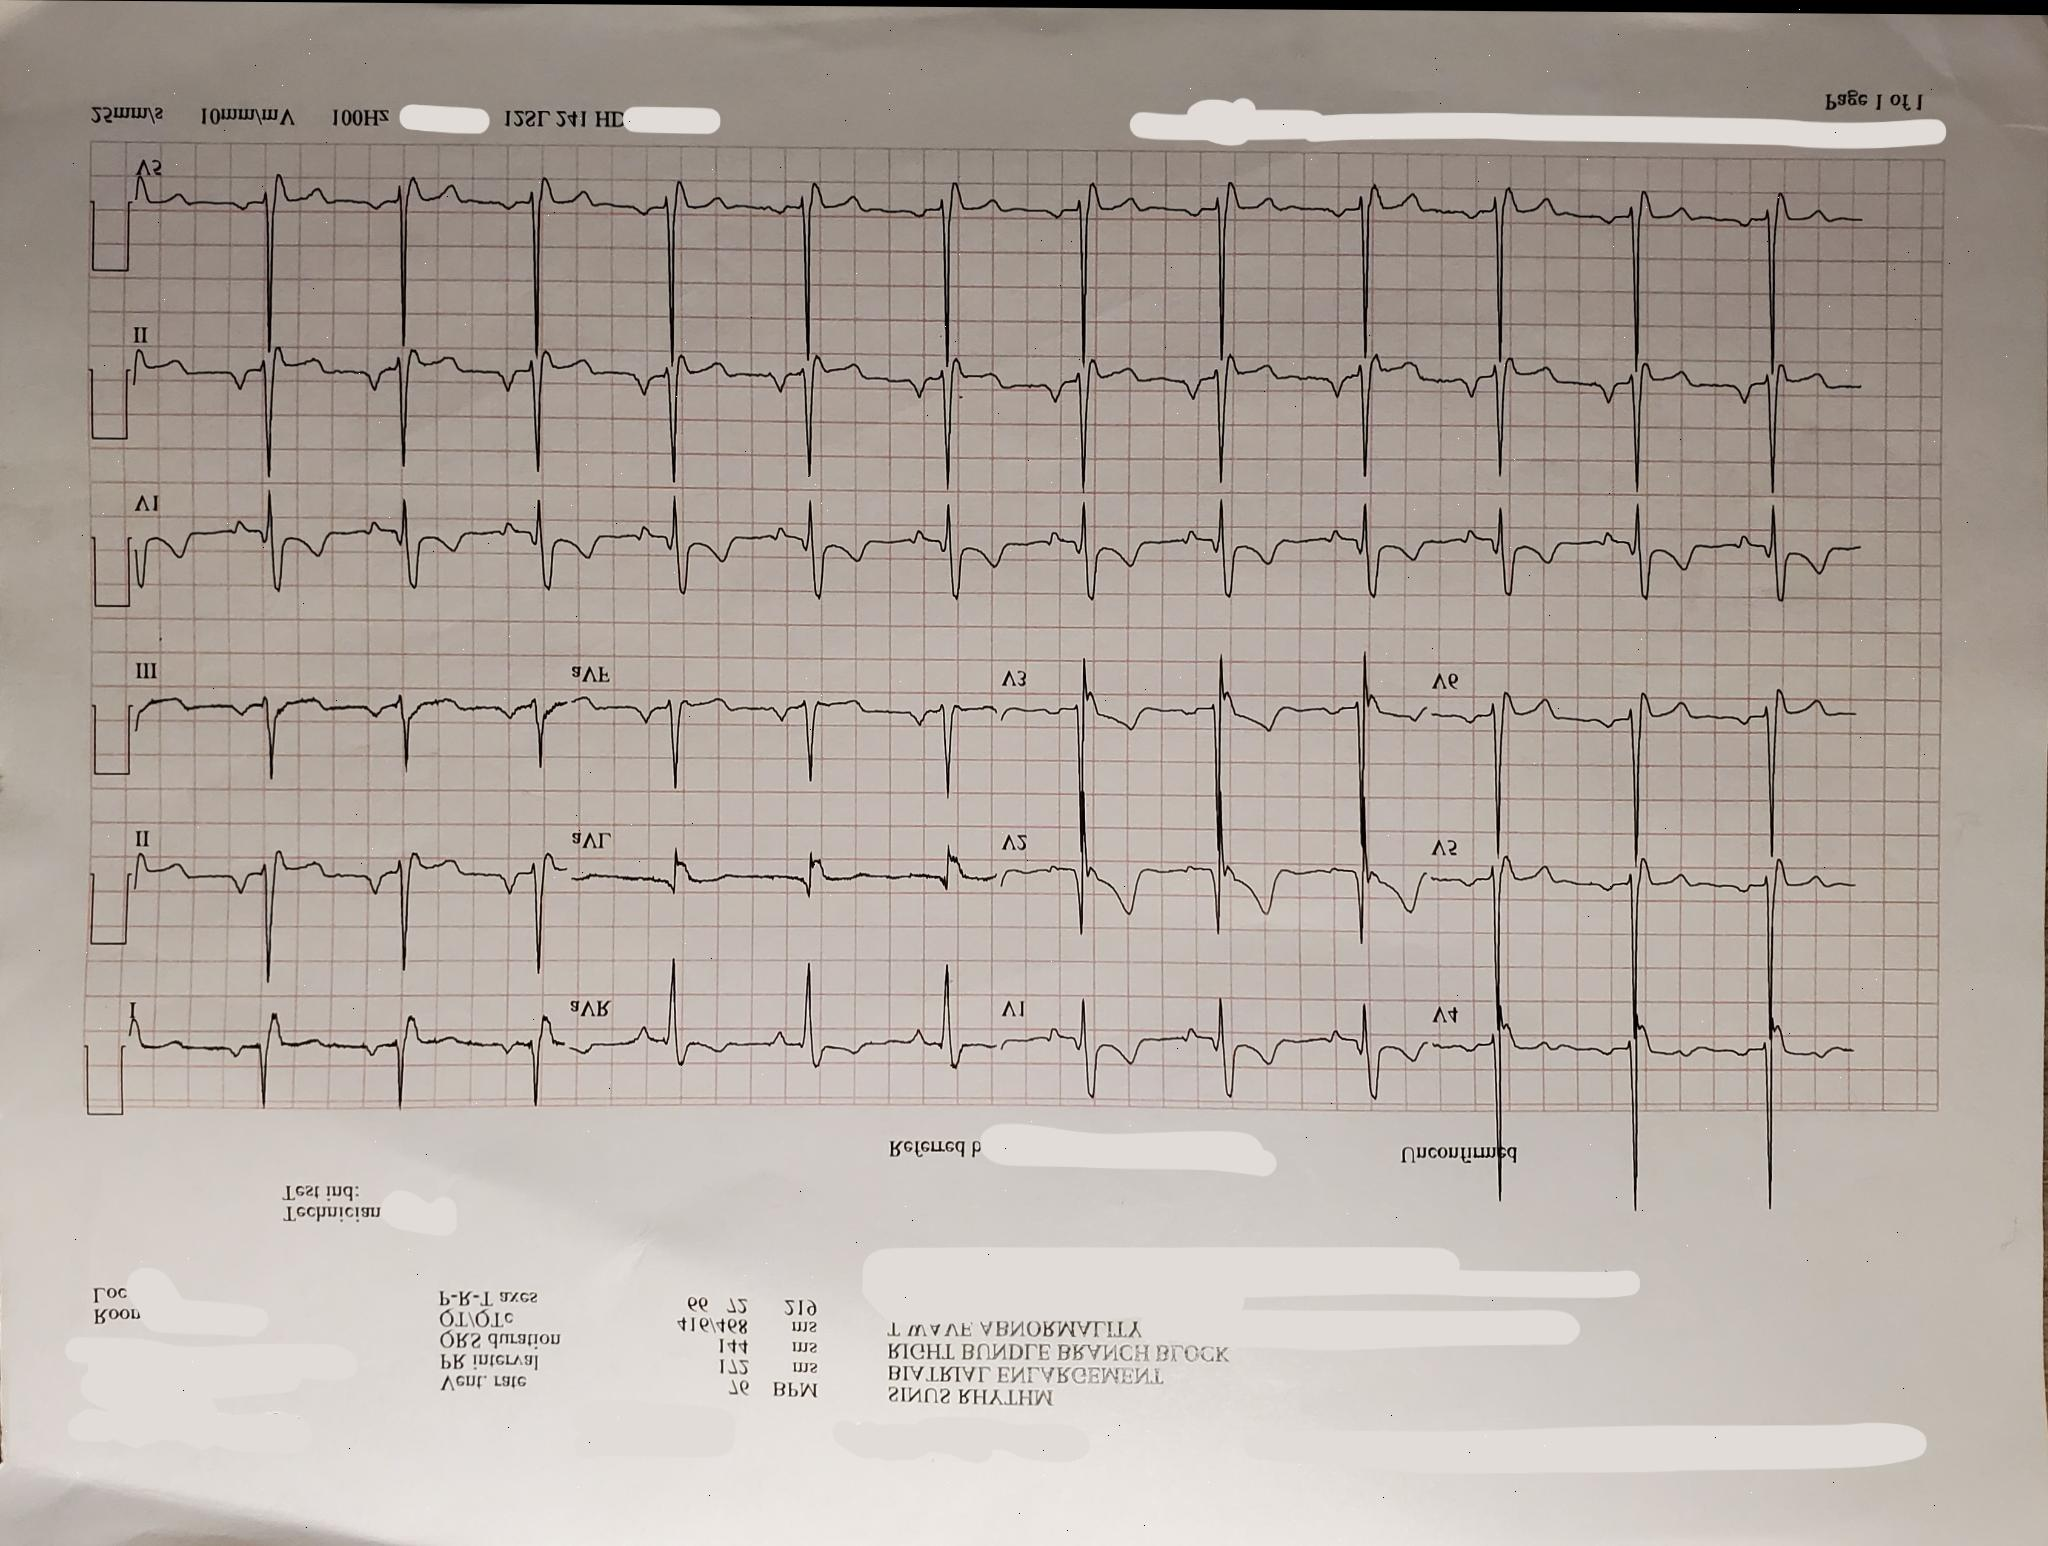Lead_I: (122, 963, 559, 1121)
Lead_II: (127, 283, 581, 492), (117, 804, 572, 1000)
Lead_III: (117, 632, 572, 794)
Lead_V1: (128, 464, 577, 622), (992, 957, 1419, 1104)
Lead_V2: (996, 767, 1423, 957)
Lead_V3: (1004, 625, 1424, 861)
Lead_V4: (1415, 940, 1868, 1234)
Lead_V5: (1415, 789, 1874, 1038), (133, 130, 580, 284)
Lead_V6: (1415, 648, 1912, 900)
Lead_aVF: (568, 638, 992, 814)
Lead_aVL: (562, 792, 997, 950)
Lead_aVR: (560, 944, 992, 1101)
